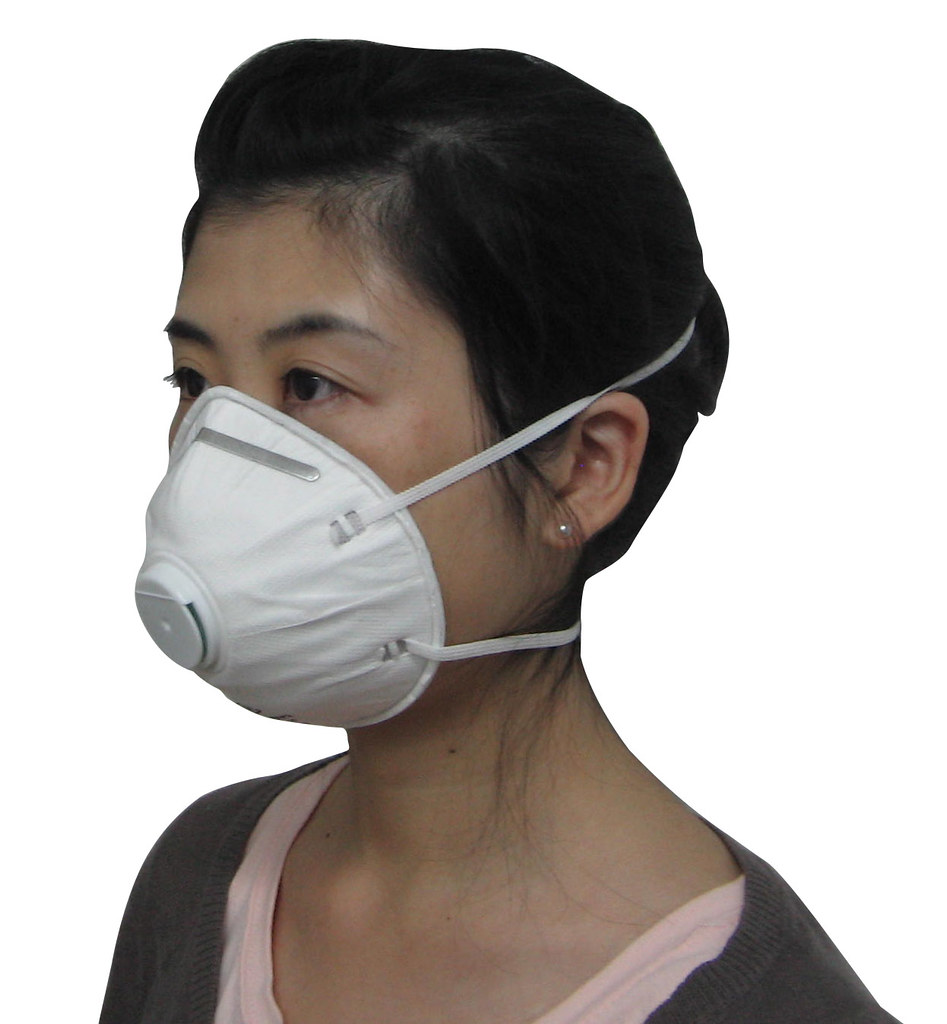n95: (116, 382, 468, 743)
